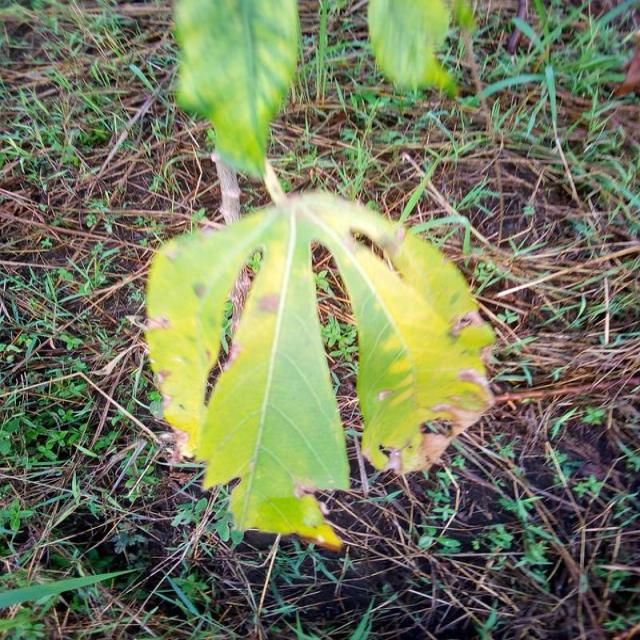cassava leaf: (145, 186, 496, 552), (171, 0, 304, 180), (367, 0, 459, 98)
